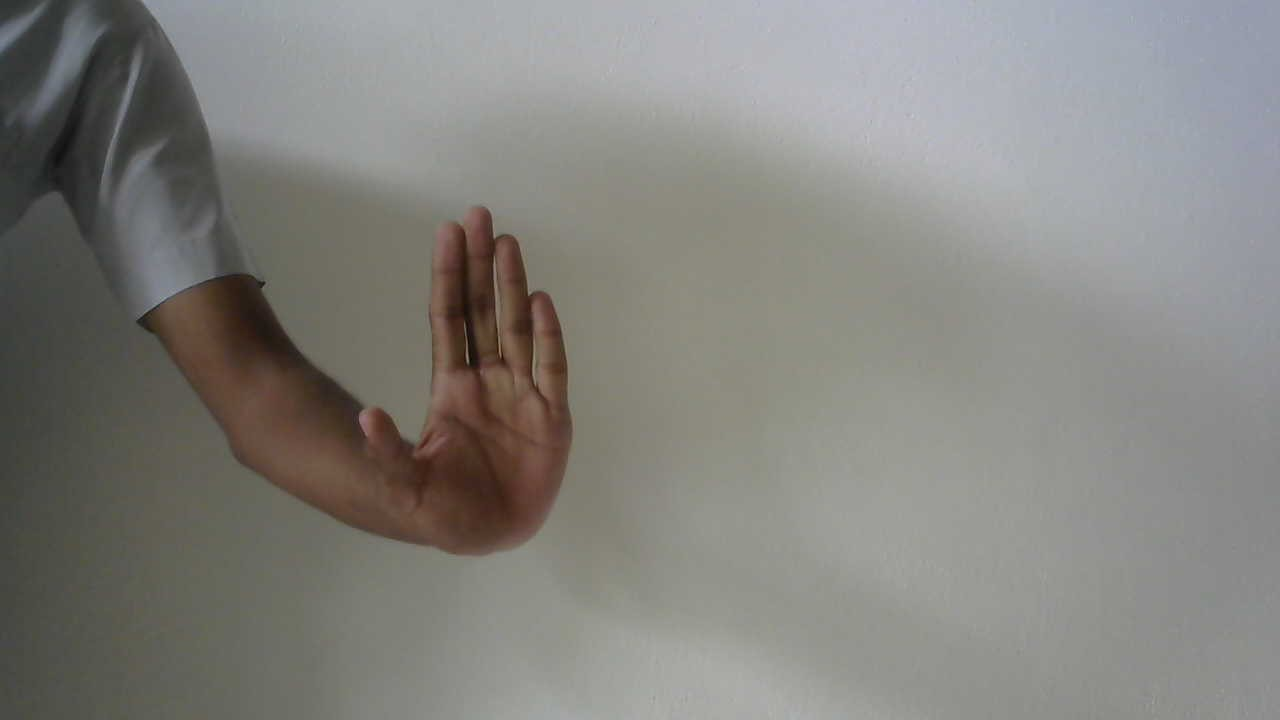hello: (347, 200, 588, 570)
